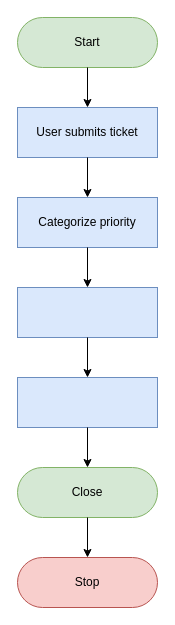
Image size: 175x625. Some labels were removed from this diagram. Here are the shapes that lost their labels. From the top down, the centre of each, then its label:
point 87,312: Assign to agent
point 87,402: Resolve
